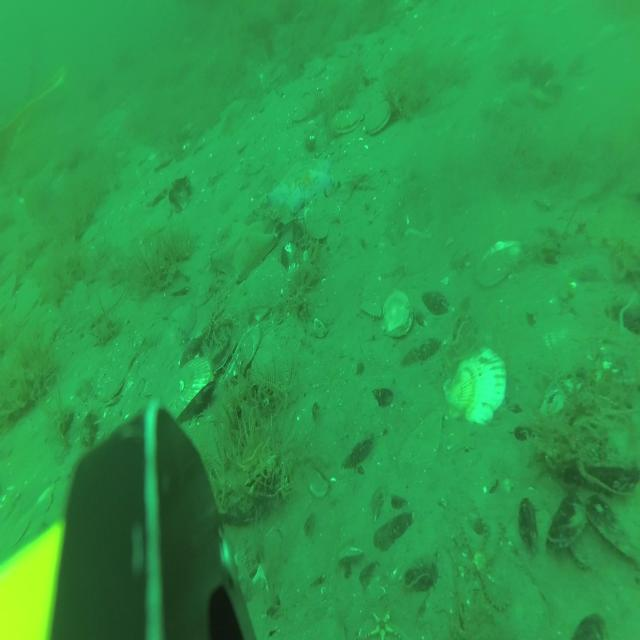scallop: (443, 346, 506, 425), (161, 359, 214, 420), (476, 238, 519, 284), (97, 346, 132, 402), (382, 292, 414, 336), (364, 104, 390, 135), (330, 107, 361, 129)
starfish: (211, 223, 275, 280), (266, 160, 334, 210)
